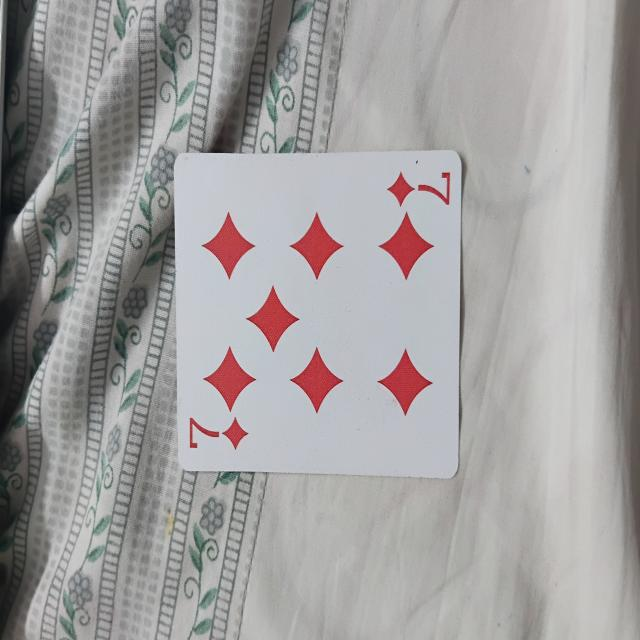7D: (174, 155, 460, 477)
